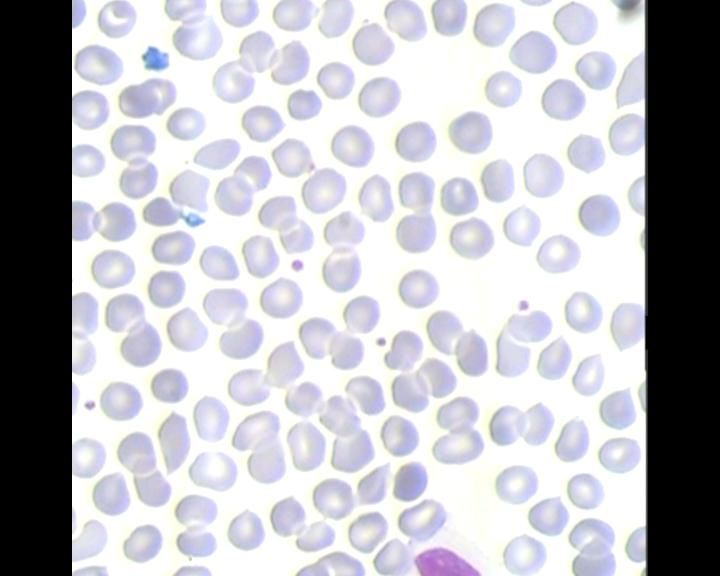mono: (401, 526, 494, 576)
